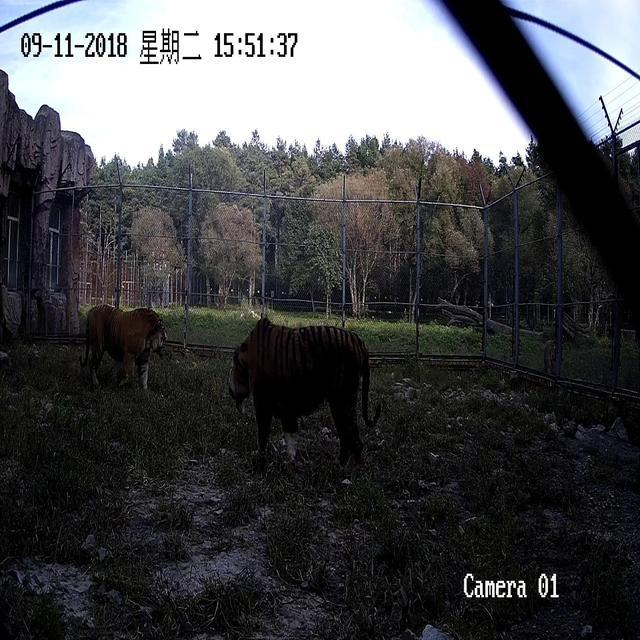tiger: (226, 314, 381, 471), (80, 303, 167, 391)
